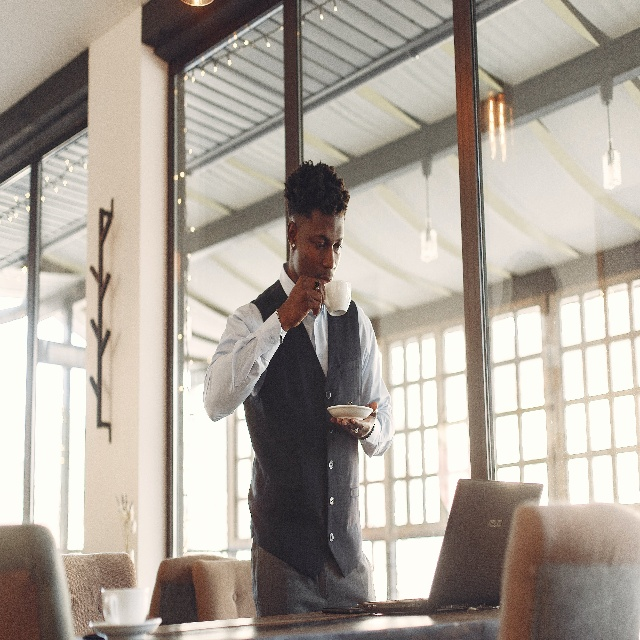Sin_guantes: (286, 274, 326, 328), (329, 401, 379, 439)
